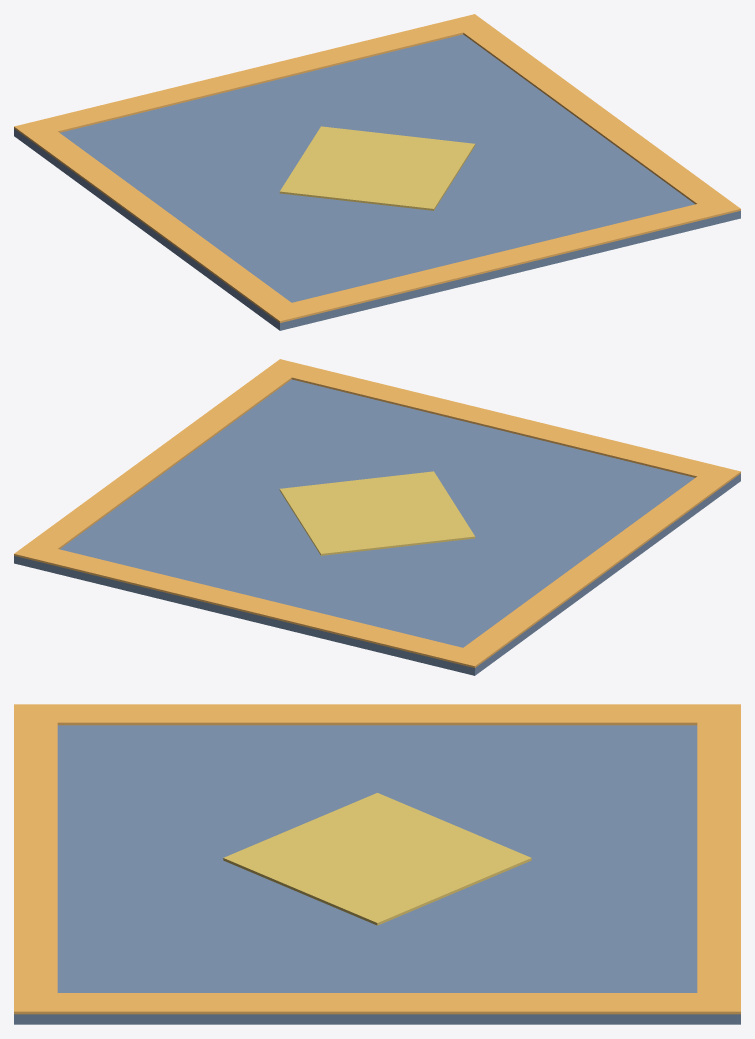
The model's file is interior_rug.glb.
The picture shows the model from 3 angles, top to bottom: view 1: azimuth 30°, elevation 25°; view 2: azimuth 150°, elevation 25°; view 3: azimuth 270°, elevation 25°; orthographic projection. The views are drawn at different scales.
Visible parts, largest first — view 1: base, diamond, border, border.001, border.002, border.003; view 2: base, diamond, border.001, border, border.002, border.003; view 3: base, diamond, border.002, border.003, border, border.001.
Boxes of the visible parts, x1,y1,x2,y2 form: base: (14,34,740,330); diamond: (279,126,475,210); border: (264,197,740,322); border.001: (14,14,490,139); border.002: (30,131,291,310); border.003: (463,25,724,204); base: (14,379,740,675); diamond: (279,471,475,555); border.001: (14,542,490,667); border: (264,359,740,484); border.002: (463,476,724,655); border.003: (30,370,291,549); base: (14,725,740,1024); diamond: (223,793,531,925); border.002: (57,704,697,725); border.003: (57,993,697,1014); border: (14,704,57,1014); border.001: (697,704,740,1014).
Size of the model in its own units: 1 by 0.02 by 1.
